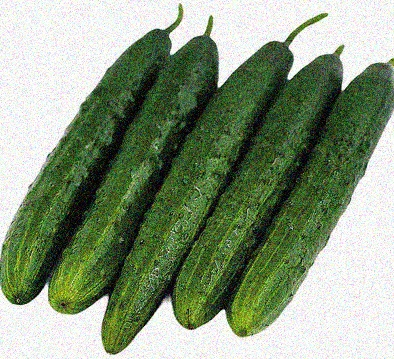cucumber: (105, 30, 292, 350), (187, 43, 345, 331), (59, 27, 216, 310), (7, 22, 163, 302), (241, 72, 388, 337)
